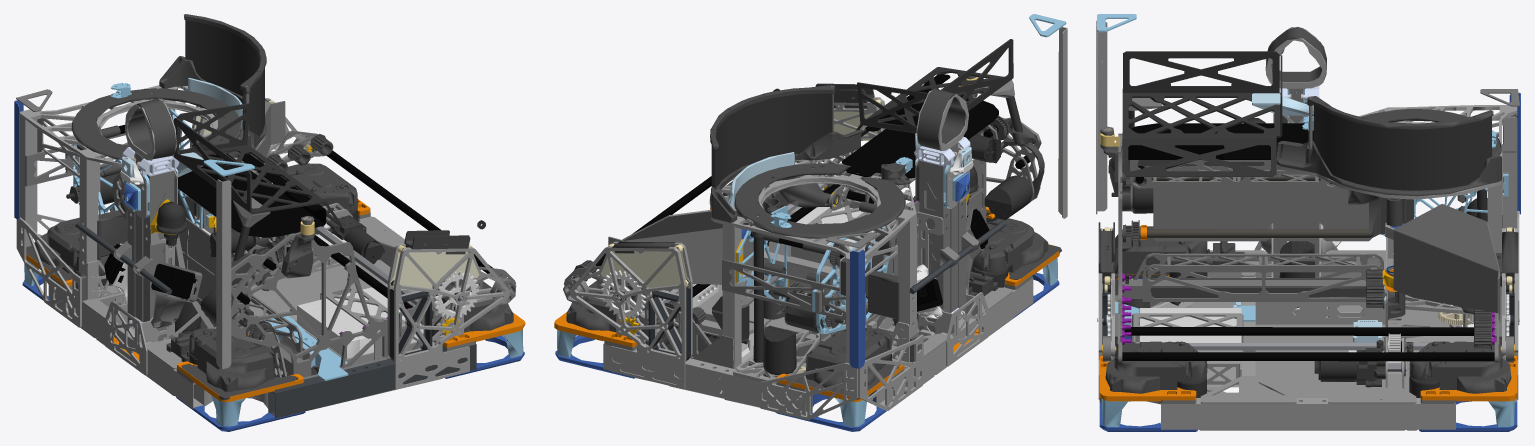
The model's file is 1690-body.glb.
The picture shows the model from 3 angles, left to right: view 1: azimuth 30°, elevation 25°; view 2: azimuth 150°, elevation 25°; view 3: azimuth 270°, elevation 25°; orthographic projection.
Parts seen in each view (by area): view 1: Part 39, Part 36, 1690-26-411-08A, Part 8, 1.275 cm. Round Spacer, 1690-26-423-09A, 1690-26-411-01A, Part 58, Part 38, Robot Battery, Part 40, 1690-26-421-12A (+9 smaller); view 2: Part 39, Part 36, 1690-26-411-08A, Part 8, 1.275 cm. Round Spacer, 1690-26-423-09A, Part 38, 1690-26-411-01A, Part 40, 1690-26-210-05A, Part 53, 1690-26-421-12A (+7 smaller); view 3: Part 36, 1690-26-411-08A, Part 39, Part 8, 1690-26-411-01A, 1690-26-423-09A, 1.275 cm. Round Spacer, 1690-26-421-12A, Part 38, Robot Battery, 1690-26-313-09A, Part 40 (+8 smaller).
Boxes of the visible parts, box(x1,y1,x2,y2) form: Part 39: box(16, 85, 510, 408); Part 36: box(16, 85, 516, 383); 1690-26-411-08A: box(66, 20, 485, 376); Part 8: box(37, 14, 333, 370); 1.275 cm. Round Spacer: box(26, 125, 513, 400); 1690-26-423-09A: box(104, 114, 506, 308); 1690-26-411-01A: box(72, 216, 442, 410); Part 58: box(75, 222, 476, 418); Part 38: box(24, 82, 523, 426); Robot Battery: box(297, 287, 423, 358); Part 40: box(14, 100, 524, 431); 1690-26-421-12A: box(26, 199, 525, 402); Part 39: box(569, 27, 1067, 420); Part 36: box(563, 80, 1041, 391); 1690-26-411-08A: box(641, 39, 1032, 375); Part 8: box(574, 85, 1044, 329); 1.275 cm. Round Spacer: box(566, 181, 1061, 399); 1690-26-423-09A: box(572, 74, 1030, 311); Part 38: box(557, 14, 1066, 427); 1690-26-411-01A: box(636, 198, 1013, 407); Part 40: box(555, 172, 1059, 431); 1690-26-210-05A: box(601, 98, 884, 289); Part 53: box(600, 147, 973, 362); 1690-26-421-12A: box(554, 206, 1059, 401); Part 36: box(1103, 88, 1519, 403); 1690-26-411-08A: box(1111, 51, 1491, 397); Part 39: box(1096, 20, 1519, 429); Part 8: box(1103, 27, 1517, 376); 1690-26-411-01A: box(1105, 129, 1473, 430); 1690-26-423-09A: box(1108, 123, 1494, 361); 1.275 cm. Round Spacer: box(1105, 194, 1511, 393); 1690-26-421-12A: box(1099, 225, 1517, 401); Part 38: box(1097, 14, 1515, 426); Robot Battery: box(1139, 308, 1241, 387); 1690-26-313-09A: box(1122, 174, 1369, 237); Part 40: box(1099, 92, 1520, 431).
Bounding box in the file's own units: 0.6415 × 0.5181 × 0.7496.
